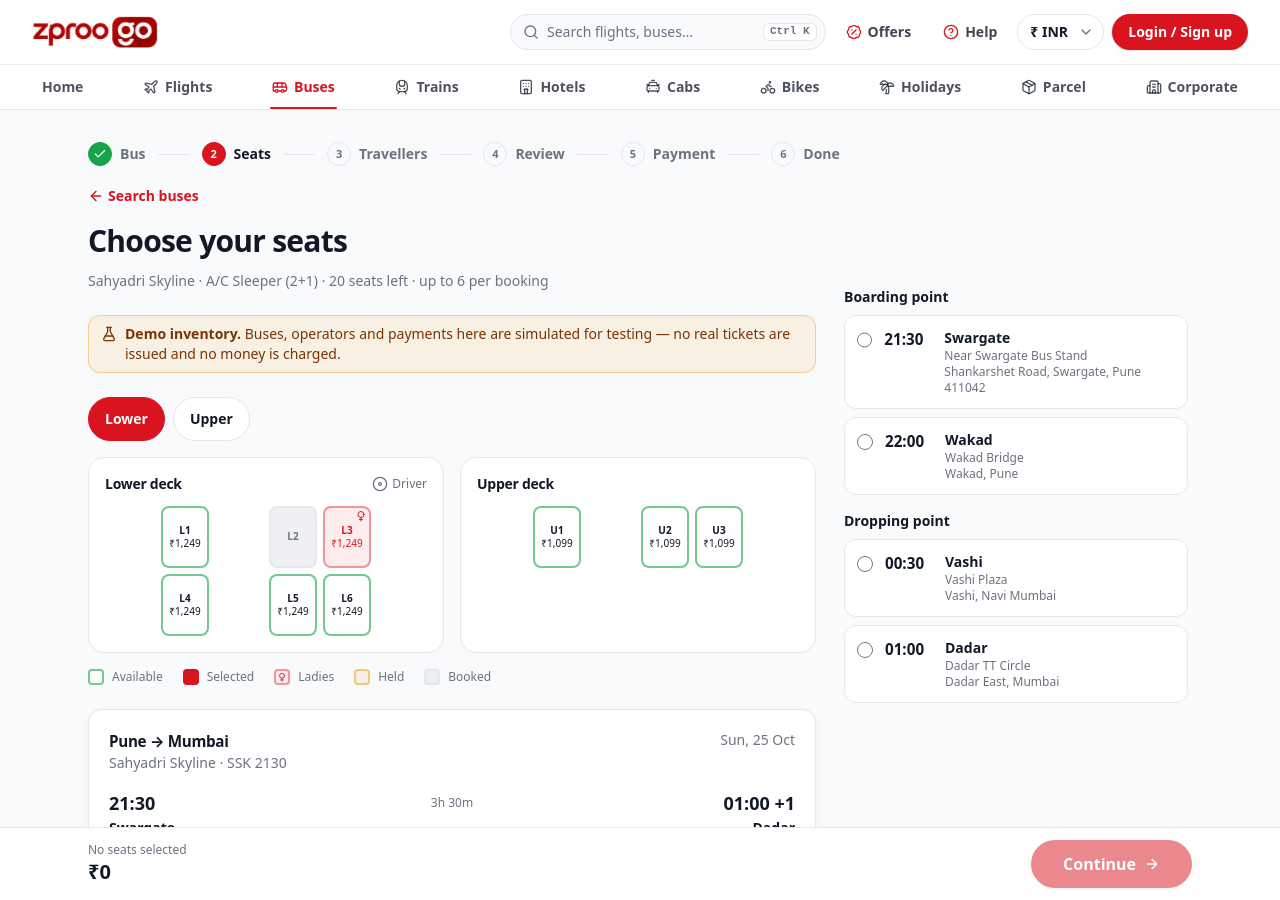
Scenario: seat selection › selects seats with the keyboard-operable map and deep-logs-in guests with a draft
The width and height of the screenshot is (1280, 900).
Expected: the button with test id "bus-seat-L2" is shown, [269,506,317,568]
Expected: the button with test id "bus-seats-continue" is disabled, [1031,840,1192,888]
Click the button with test id "bus-seat-L1": (185, 537) [161,506,209,568]
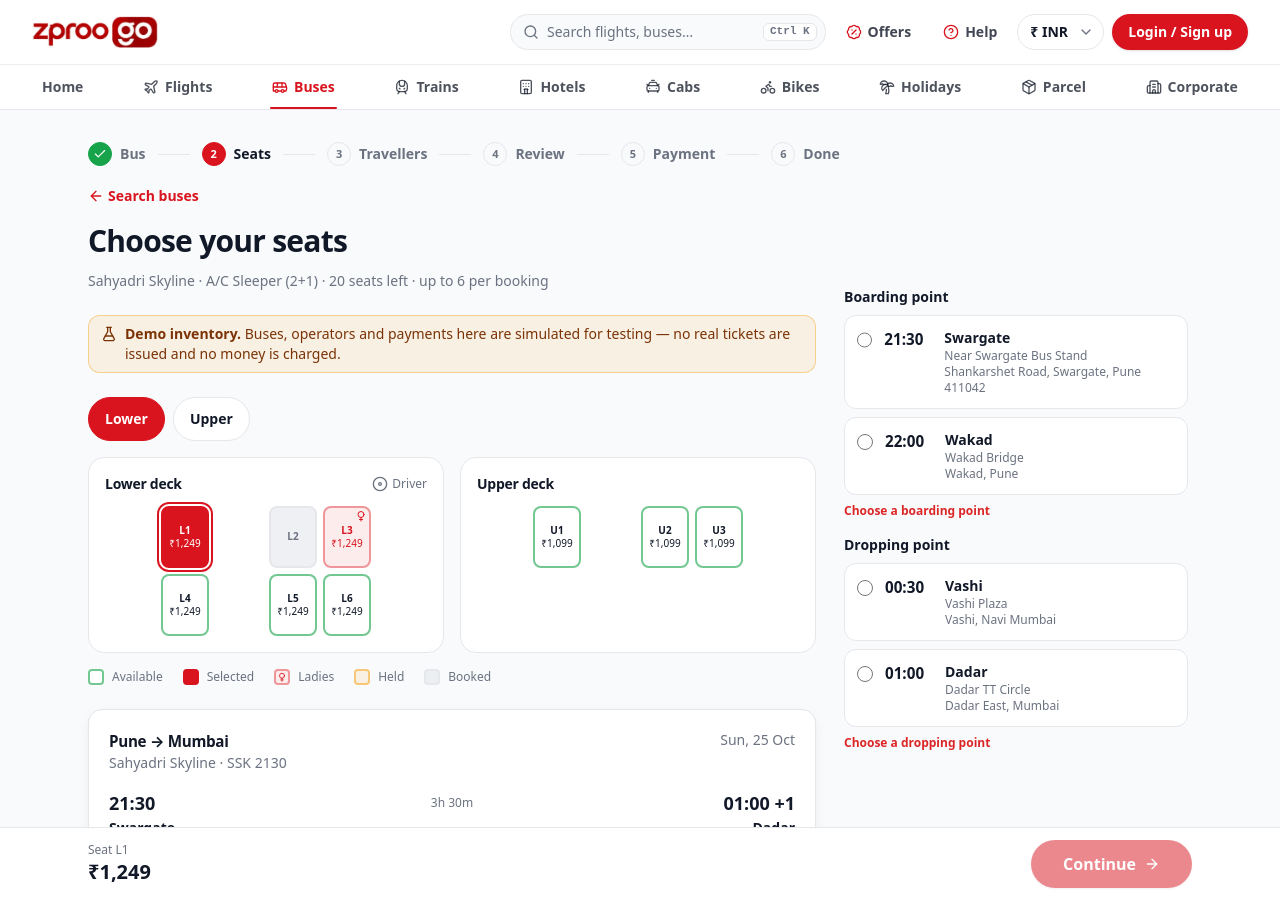
Expected: the button with test id "bus-seat-L1" is pressed, [161,506,209,568]
Expected: the button with test id "bus-seat-L1" has attribute data-status="SELECTED", [161,506,209,568]
Note: Ladies seat: allowed, with the note.
Click the button with test id "bus-seat-L3": (347, 537) [323,506,371,568]
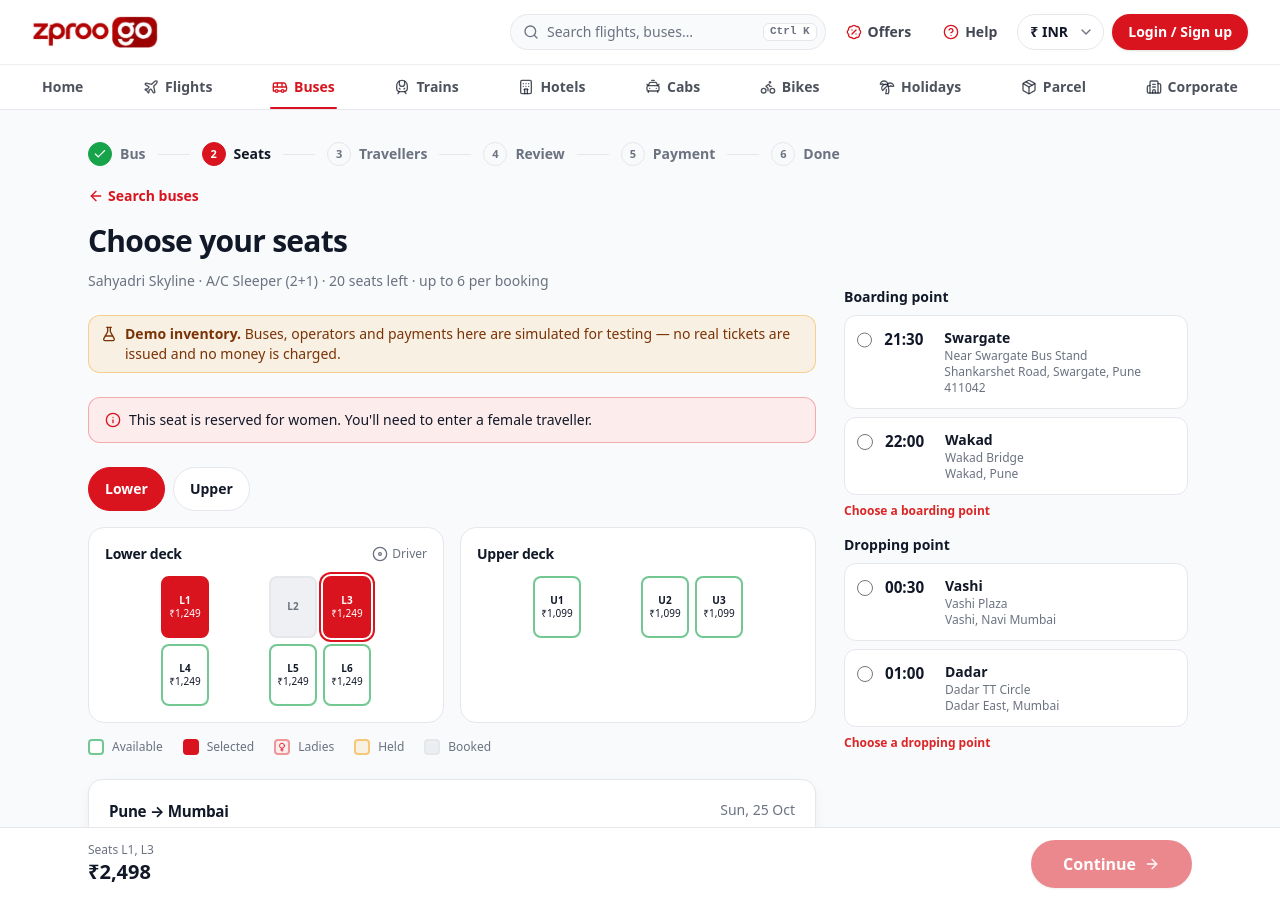
Expected: the text "Choose a boarding point" is shown, [844,502,990,519]
Expected: the text "This seat is reserved for women. You'll need to enter a female traveller." is shown, [88,397,816,443]
Expected: the text with test id "bus-seats-total" reads "₹2,498", [88,858,151,885]
Click the label with test id "bus-boarding-bp_2": (1016, 456) [844,417,1188,495]
(page scrolled)
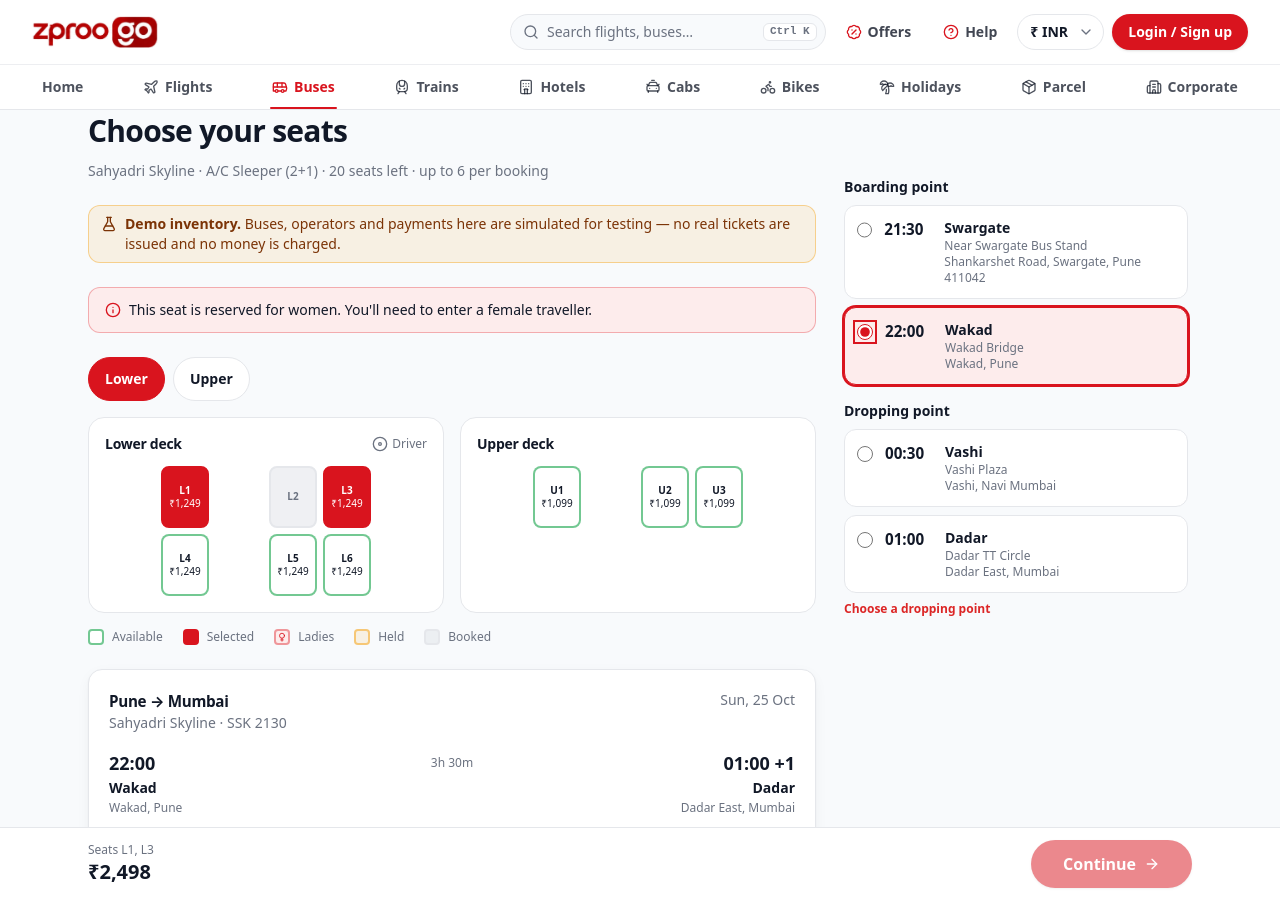
Click the label with test id "bus-dropping-dp_2": (1016, 554) [844,515,1188,593]
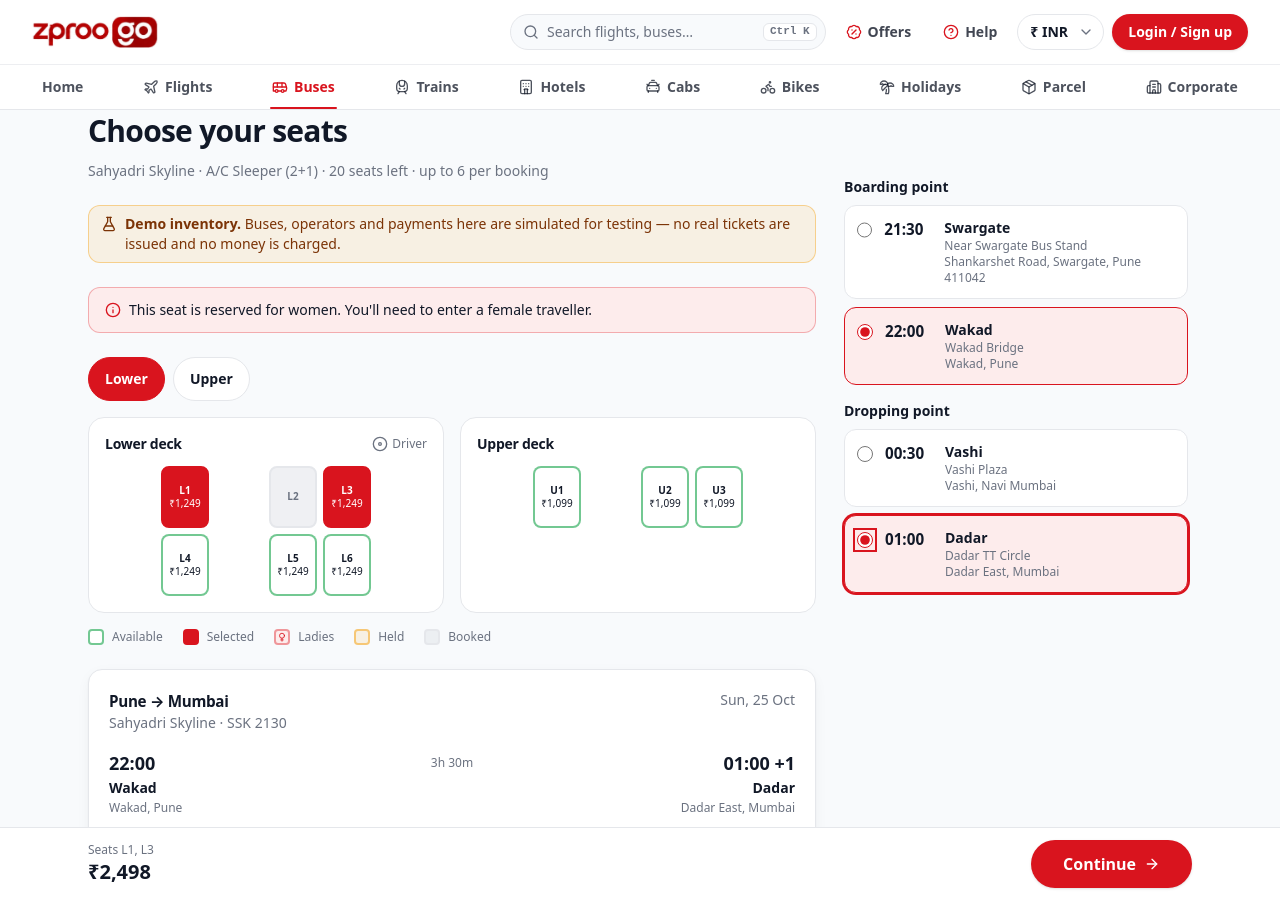
Expected: the button with test id "bus-seats-continue" is enabled
Click the button with test id "bus-seats-continue": (1112, 864) [1031,840,1192,888]
(page scrolled)
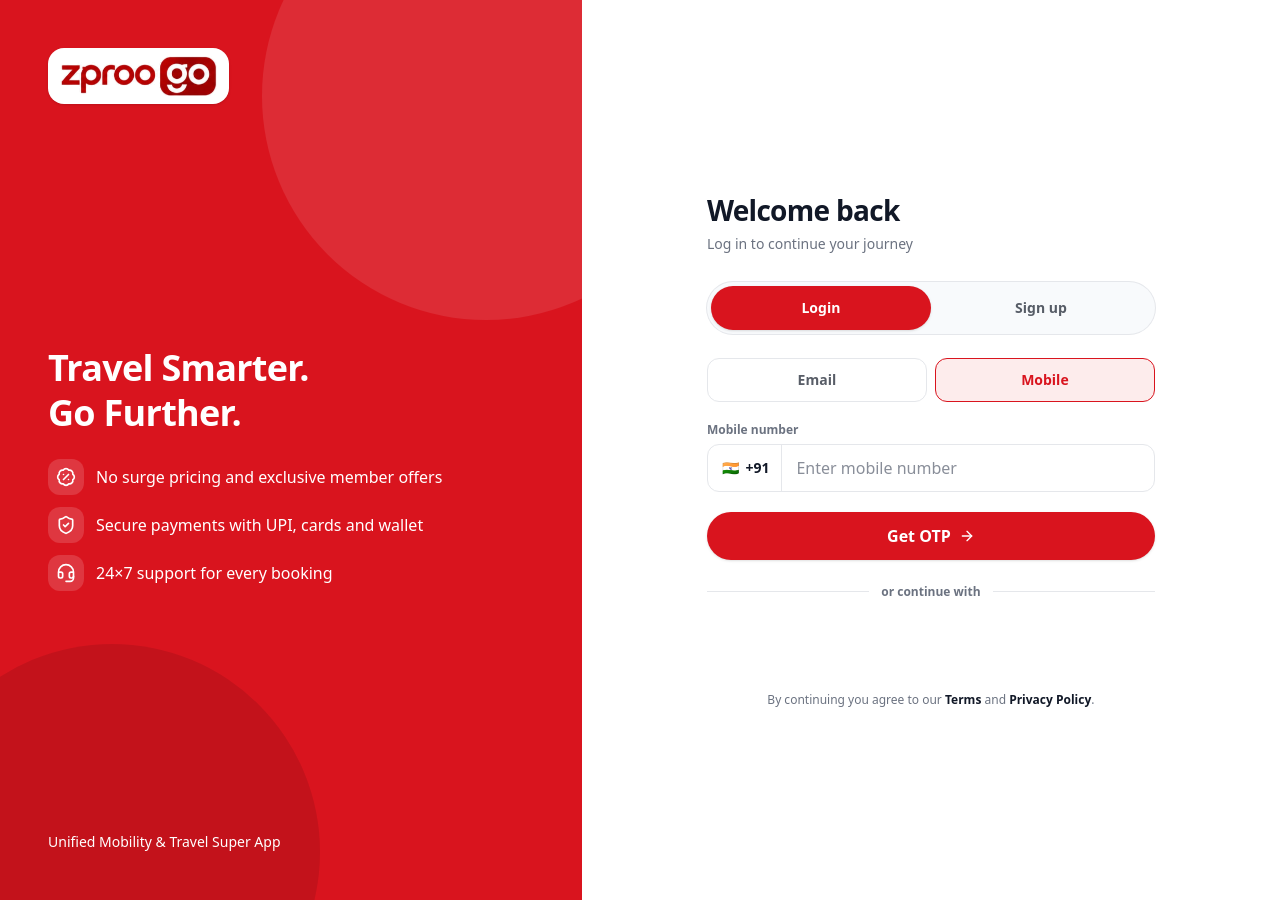
Expected: the heading "Welcome back" is shown, [707,190,900,228]
